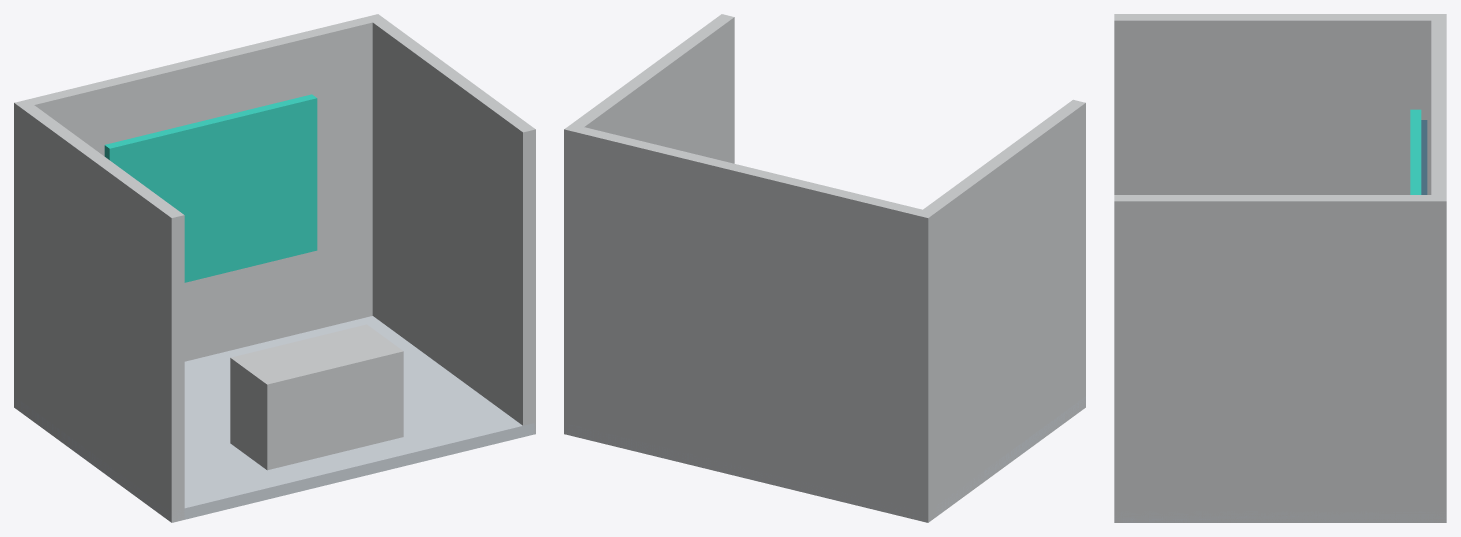
3 views of the same model, side by side, from view 1: azimuth 30°, elevation 25°; view 2: azimuth 150°, elevation 25°; view 3: azimuth 270°, elevation 25° (orthographic). The views are drawn at different scales.
Visible parts, largest first — view 1: Exhibition Booth Concept; view 2: Exhibition Booth Concept; view 3: Exhibition Booth Concept.
Boxes of the visible parts, x1,y1,x2,y2 form: Exhibition Booth Concept: (14,14,535,522); Exhibition Booth Concept: (564,14,1085,522); Exhibition Booth Concept: (1114,14,1446,522).
Bounding box in the file's own units: 4 × 3.2 × 3.
